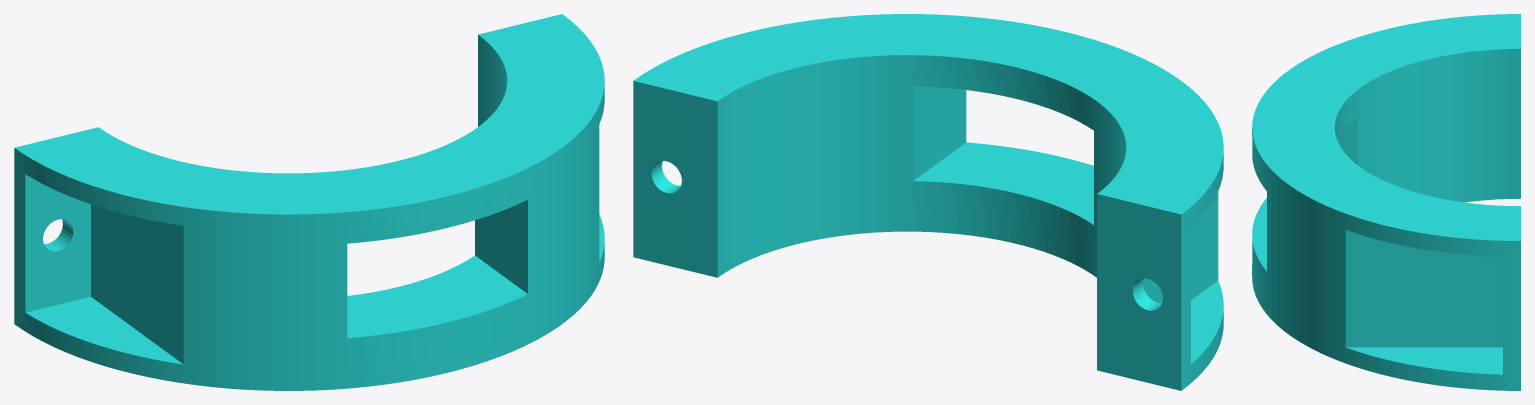
Rendered from UR3_camera_mount_lower.dae.
3 views of the same model, side by side, from view 1: azimuth 30°, elevation 25°; view 2: azimuth 150°, elevation 25°; view 3: azimuth 270°, elevation 25° (orthographic). The views are drawn at different scales.
Visible parts, largest first — view 1: UR3 camra mount lower v1; view 2: UR3 camra mount lower v1; view 3: UR3 camra mount lower v1.
Boxes of the visible parts, x1,y1,x2,y2 form: UR3 camra mount lower v1: (14, 14, 604, 390); UR3 camra mount lower v1: (633, 14, 1223, 390); UR3 camra mount lower v1: (1252, 14, 1520, 390).
Bounding box in the file's own units: 0.091 × 0.0455 × 0.028.
